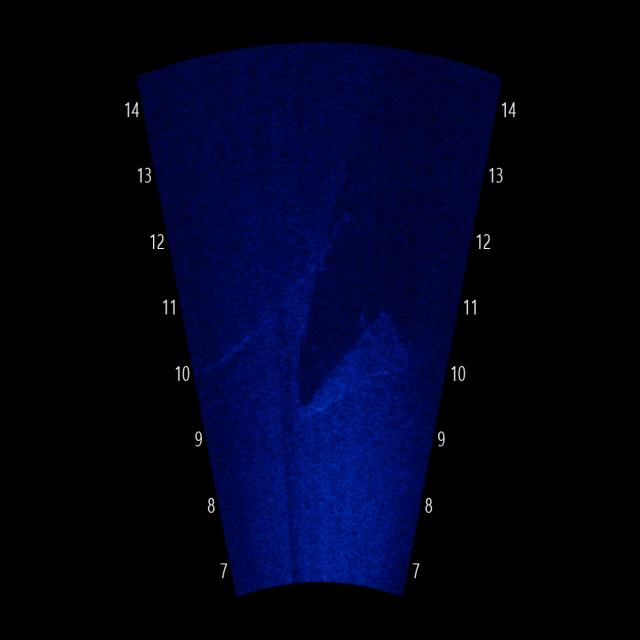triangle: (300, 308, 413, 420)
